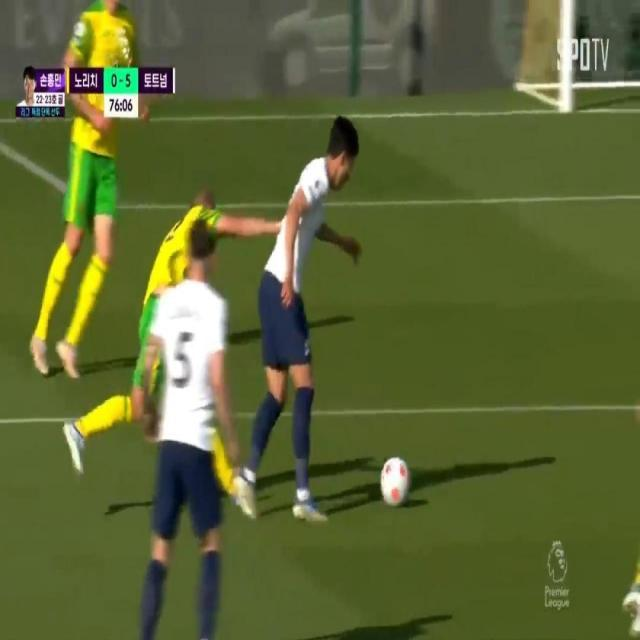ball: (372, 443, 417, 513)
player: (237, 111, 374, 511), (28, 0, 144, 382), (135, 222, 229, 640), (143, 175, 216, 329)
